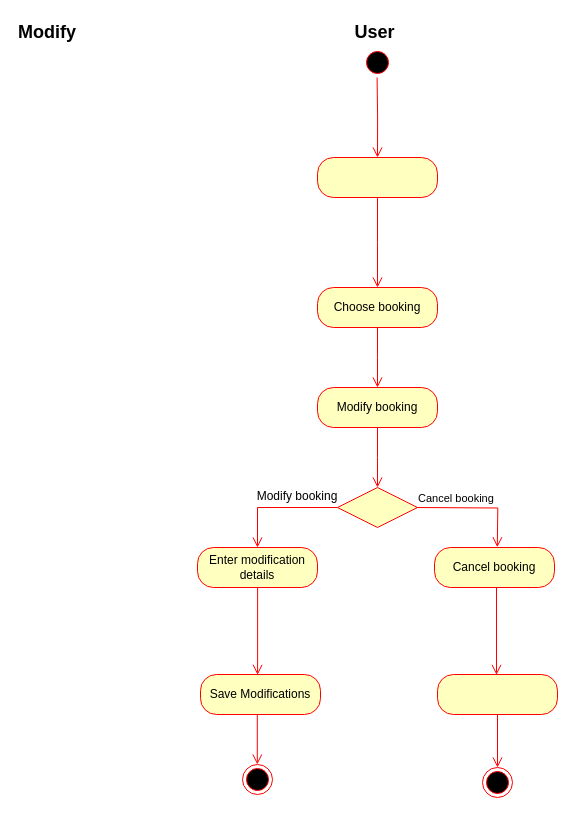
This 575x815 diagram has some shape labels left out. The centre of each missing label's shape, as x and y in pixels:
"Go to my bookings" goes at [377,177].
"Refund booking payment" goes at [497,694].
